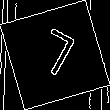L_SW: (30, 26, 80, 84)
